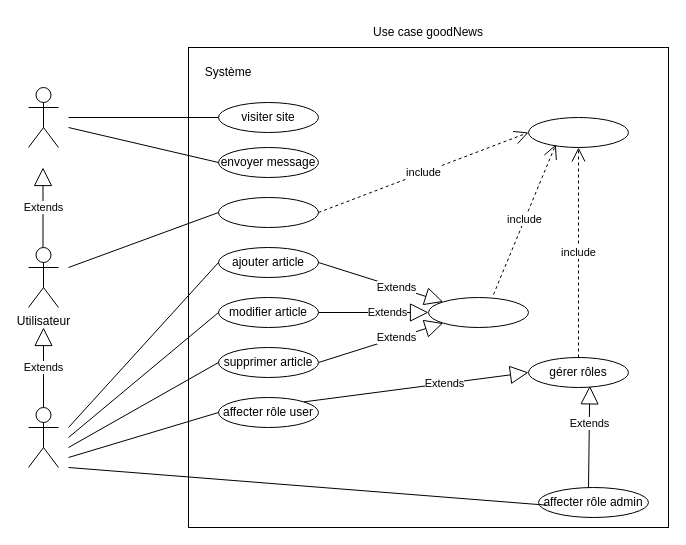
This 686x545 diagram has some shape labels left out. Here are the shapes that lost their labels. From the top down, the centre of each, then its label:
the point at 43,117: Visiteur
the point at 578,132: authentifier
the point at 268,212: lire article détallé
the point at 478,312: gérer articles
the point at 43,437: Admin
